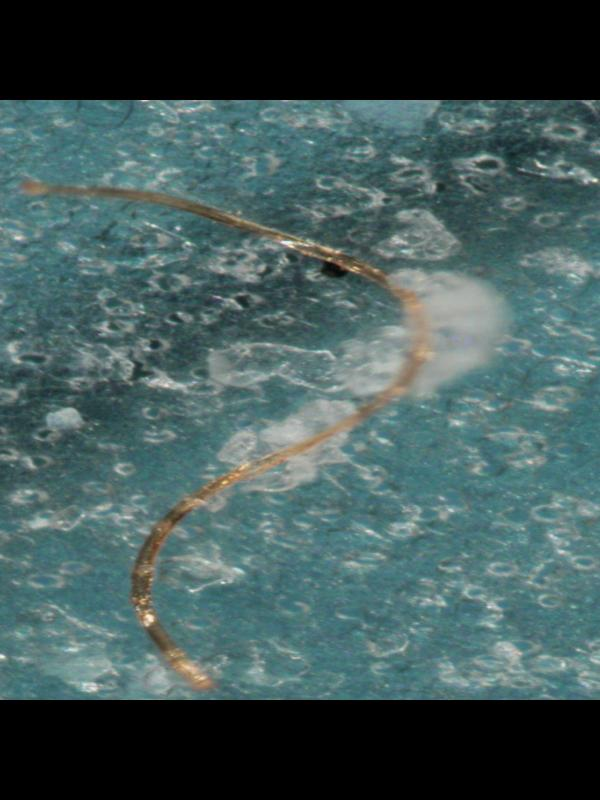microplastic: (16, 177, 441, 690)
